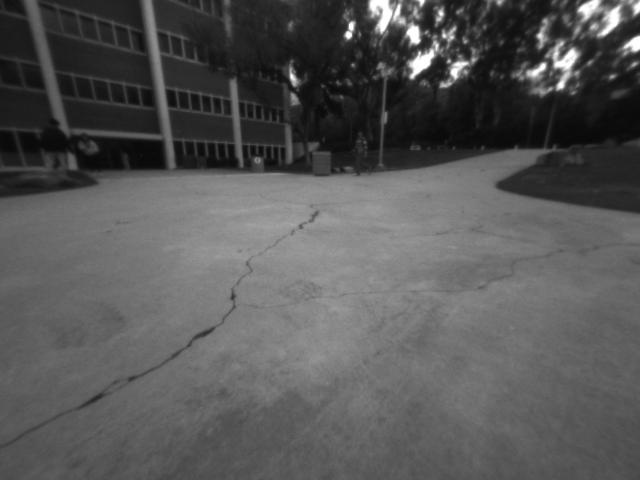trashcan: (311, 150, 332, 177), (249, 154, 271, 174)
